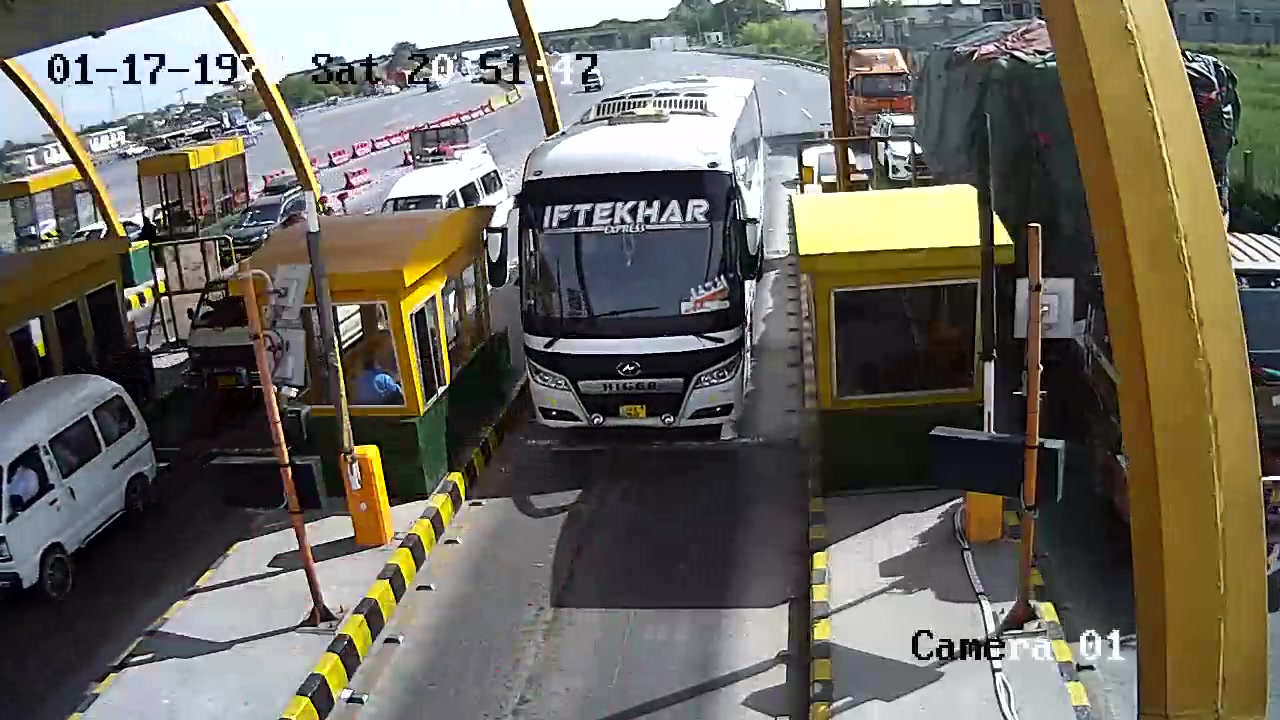F4: (527, 75, 764, 432)
